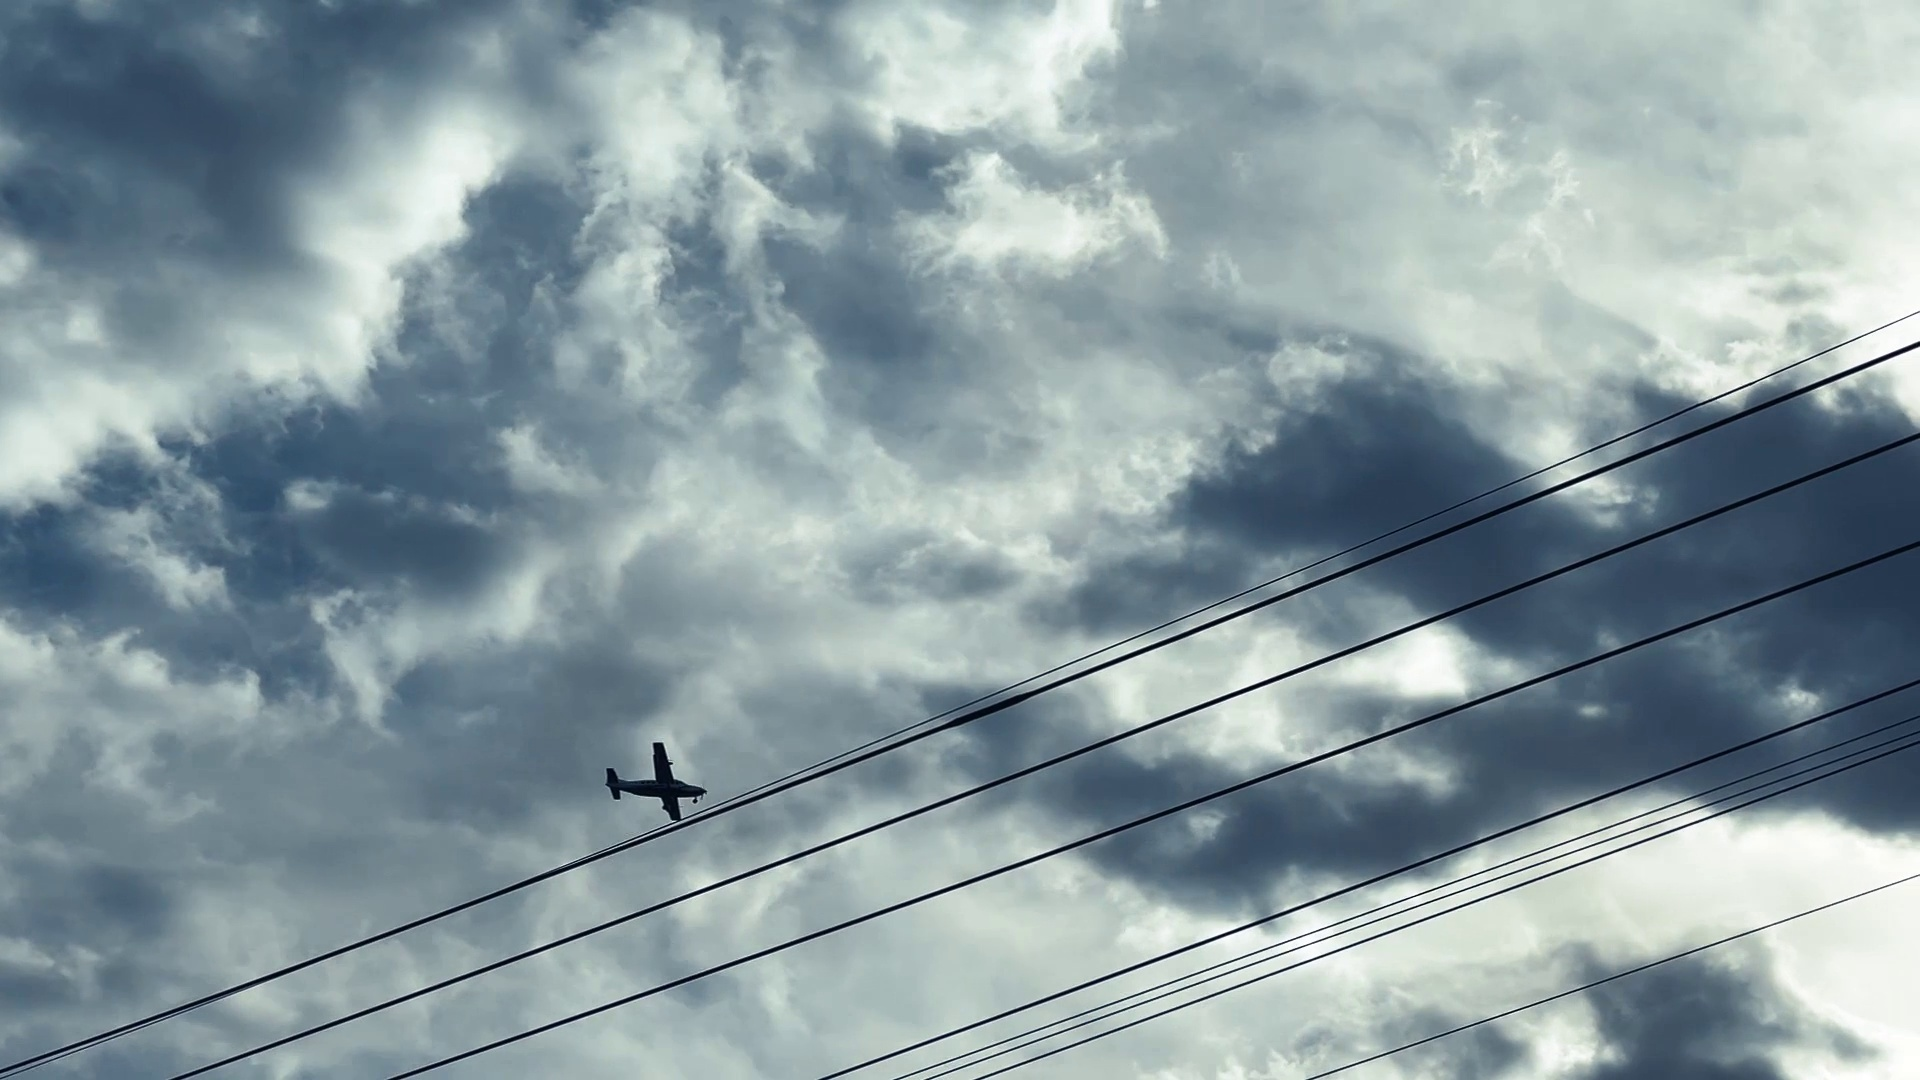plane: (607, 738, 707, 822)
